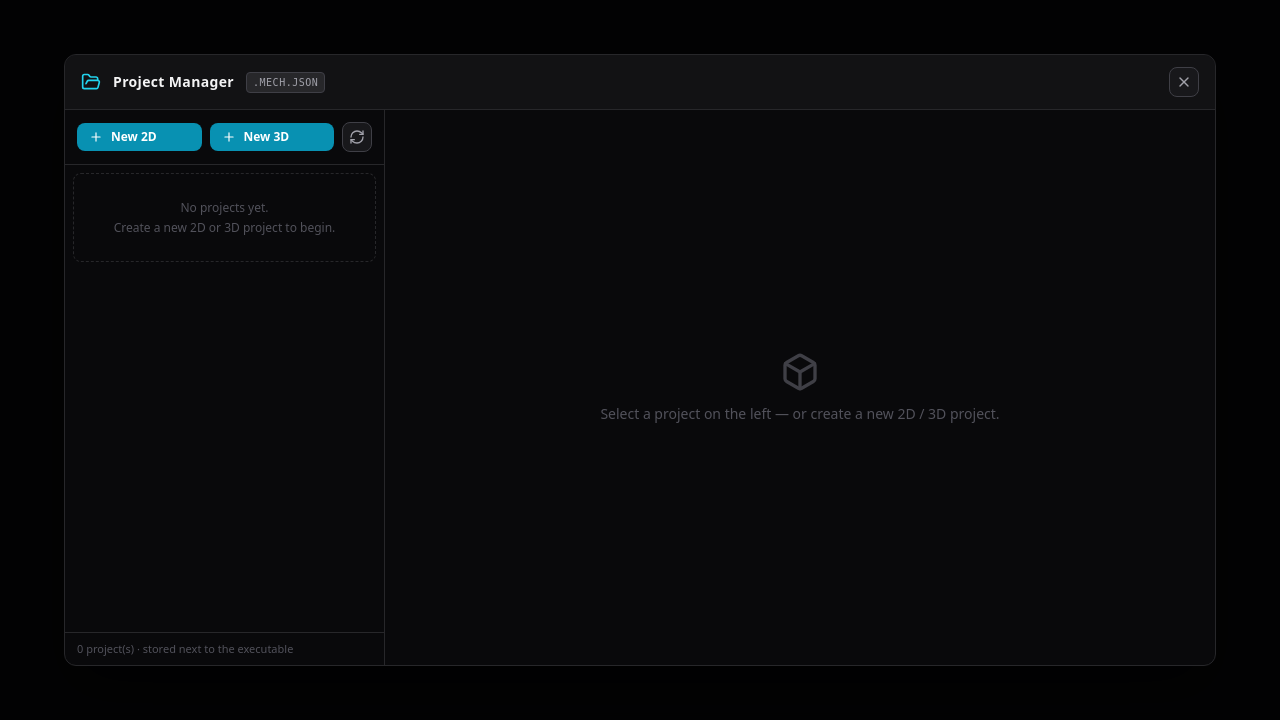
Test case: ProjectManager › creates a new 2D project and persists it through the mocked save_project command
Click the button "New 2D": (139, 137) [77,123,202,151]
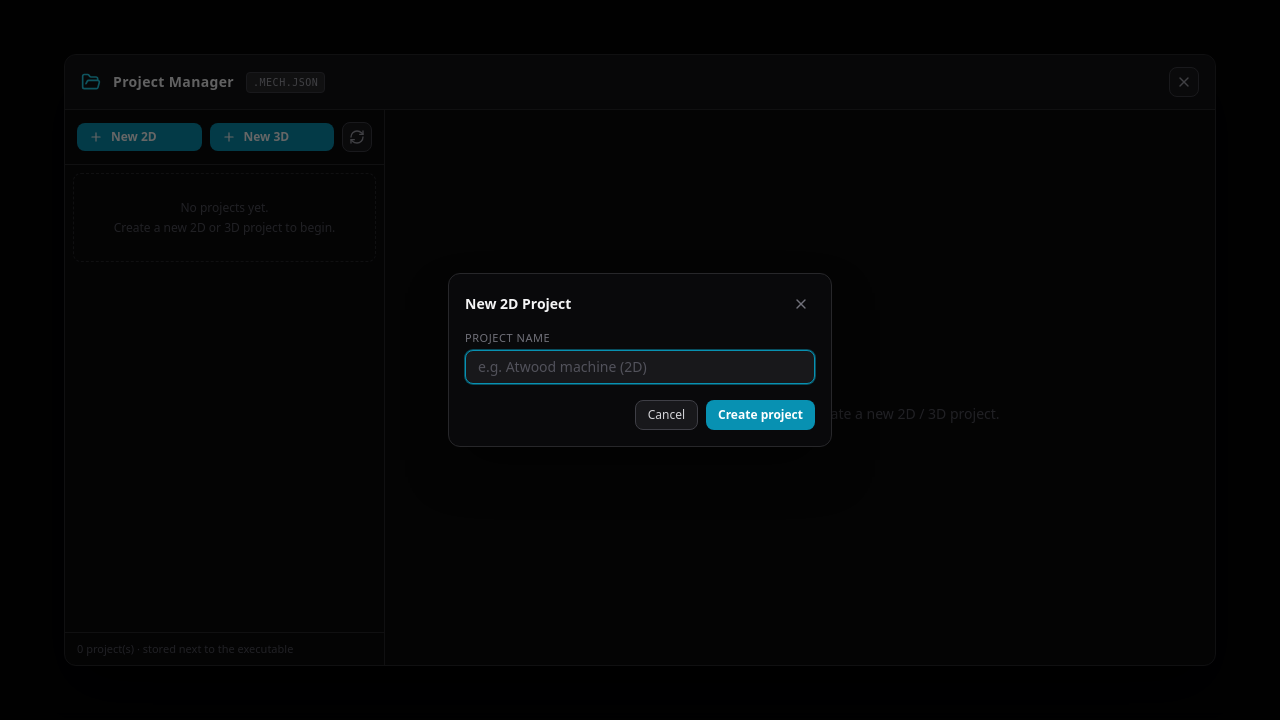
In the field labelled "Project name": (640, 367) [465,350,815,384], type "Inclined plane"
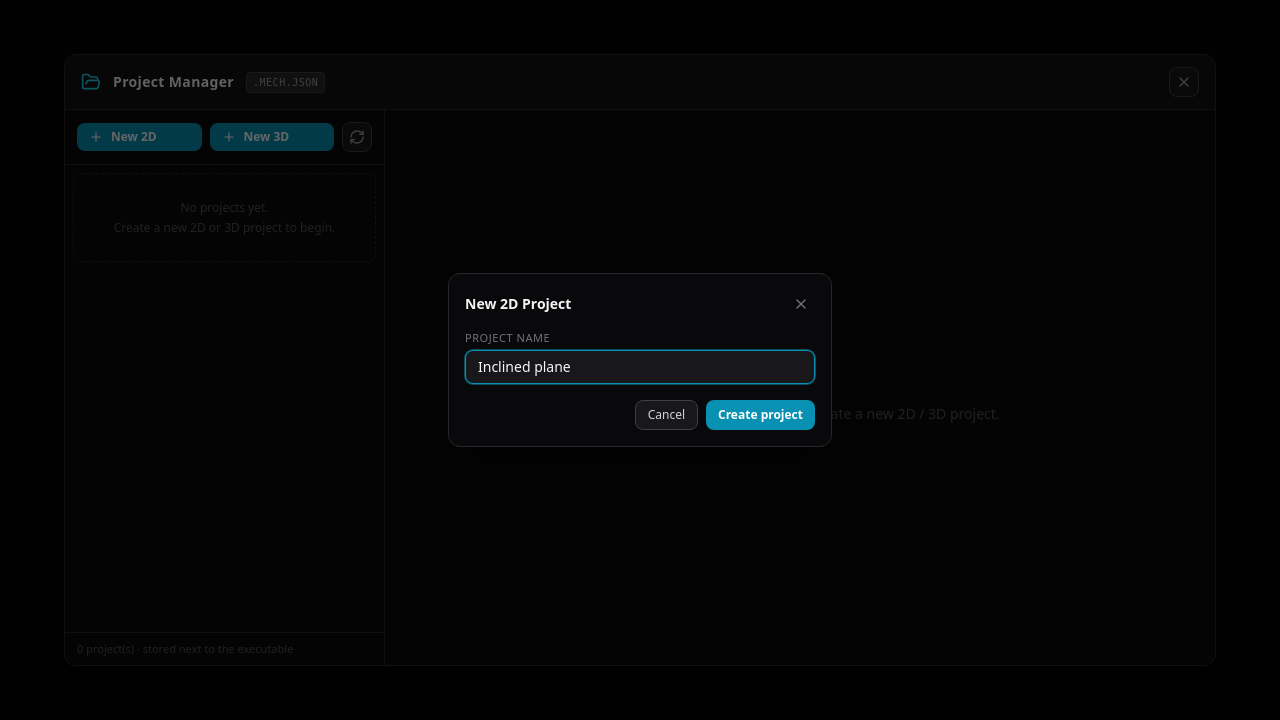
Click the button "Create project": (760, 415) [706,400,815,430]
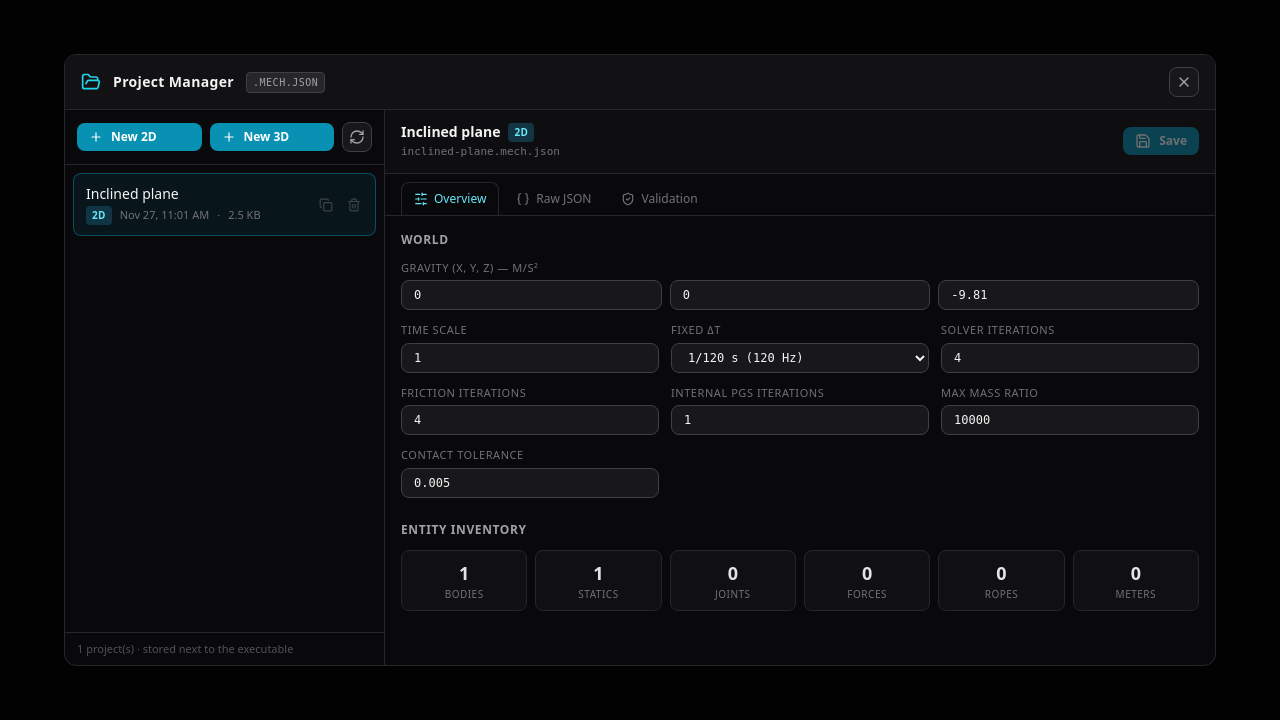
Now the heading "Inclined plane" is shown, box [401,122,500,142]
